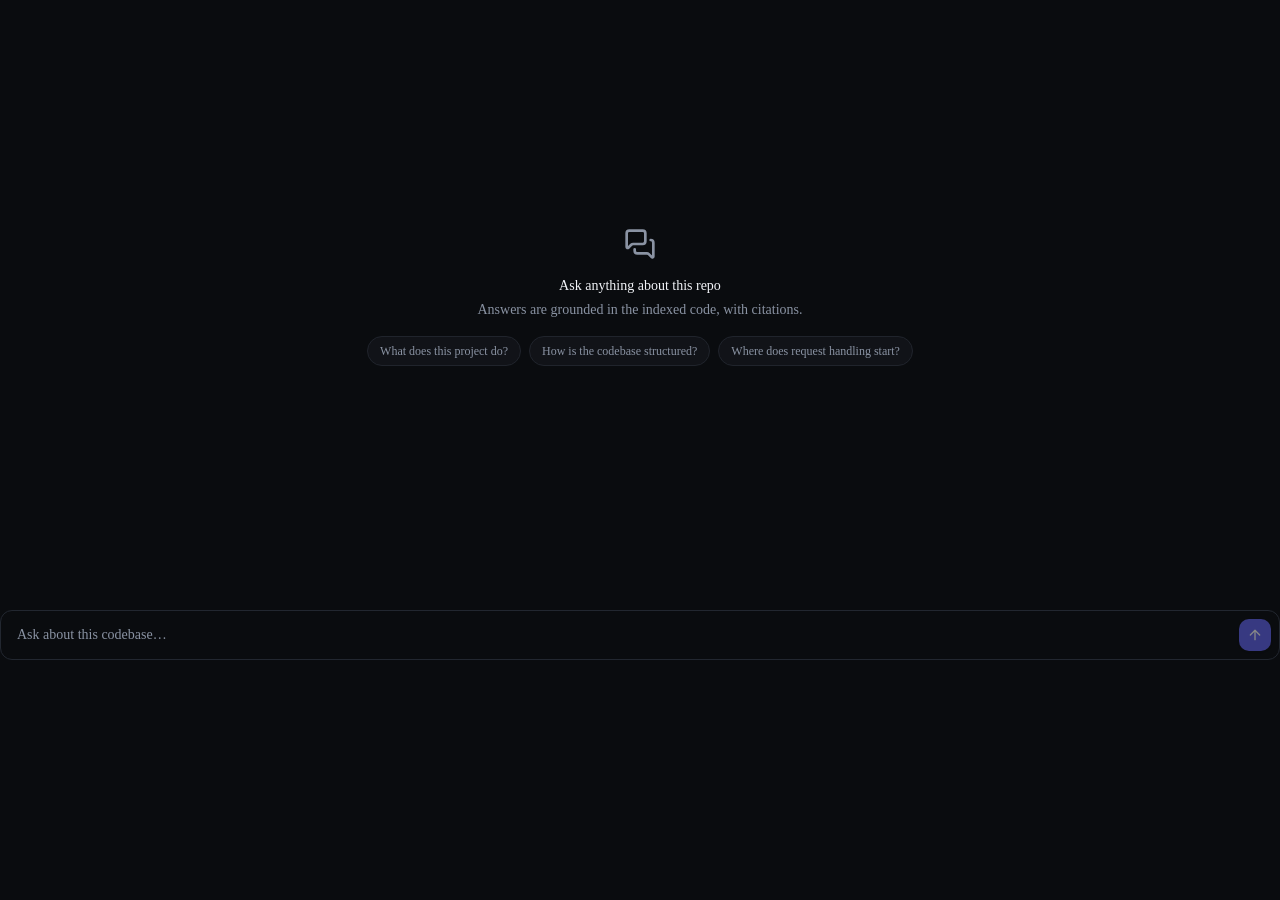
Test: ChatPanel › renders an answer with no citation block when citations are empty
Step 1. Type "What's the weather?" into the text box named "ask a question" → {"x": 620, "y": 635}, box [9, 619, 1231, 651]
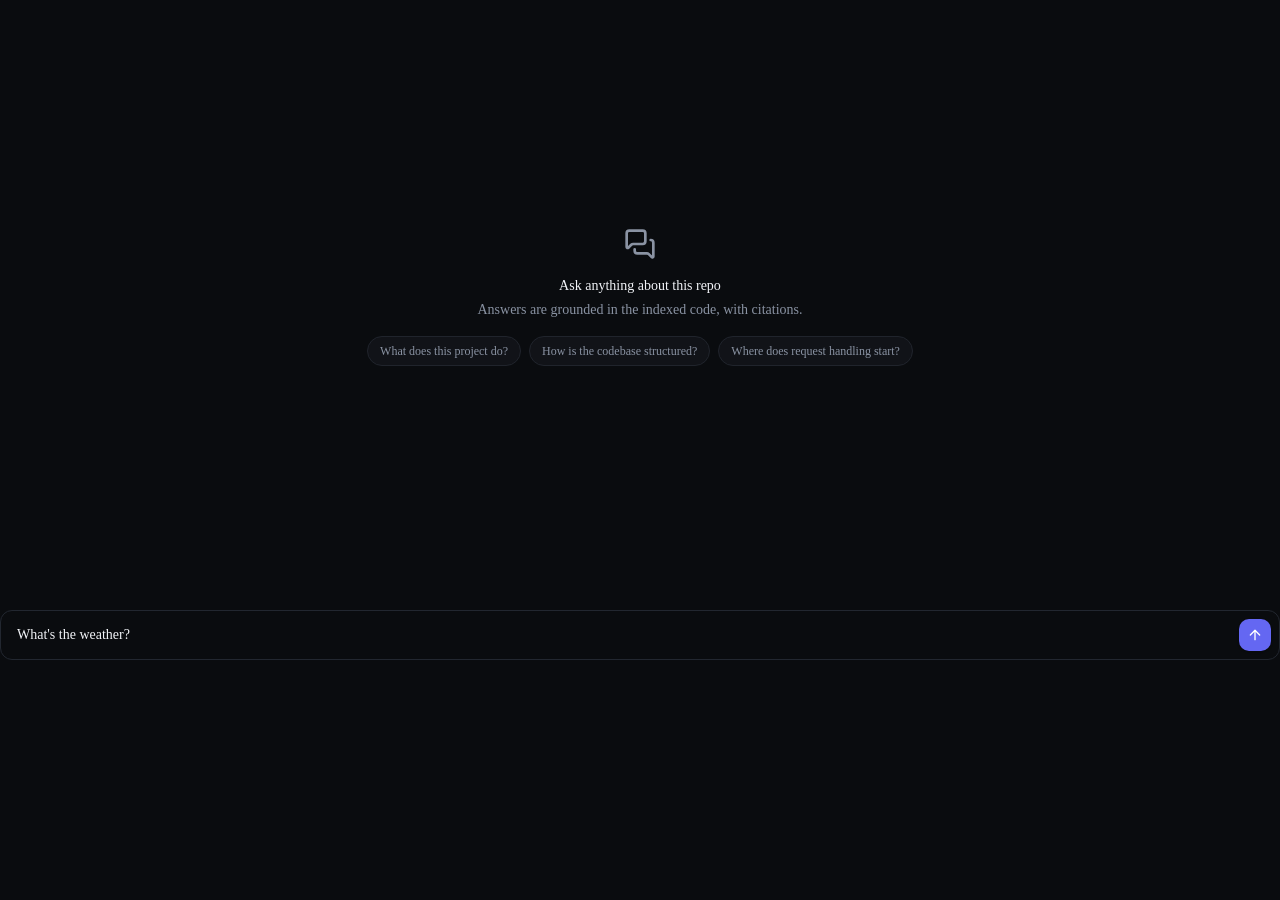
Step 2. Press Enter in the text box named "ask a question", box [9, 619, 1231, 651]
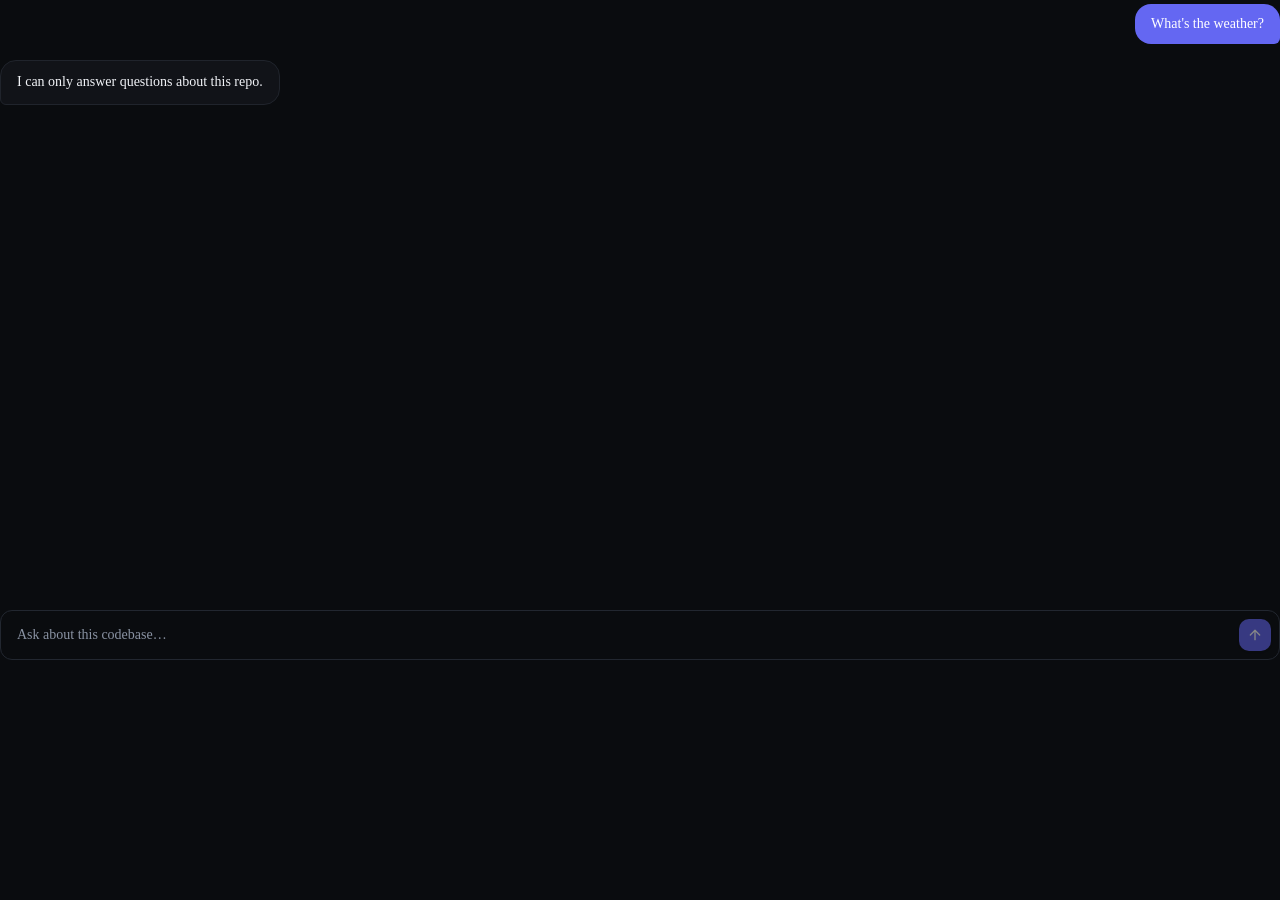
Now the text "I can only answer questions about this repo." is shown, box [17, 71, 263, 94]
Now the text "citation" is gone
